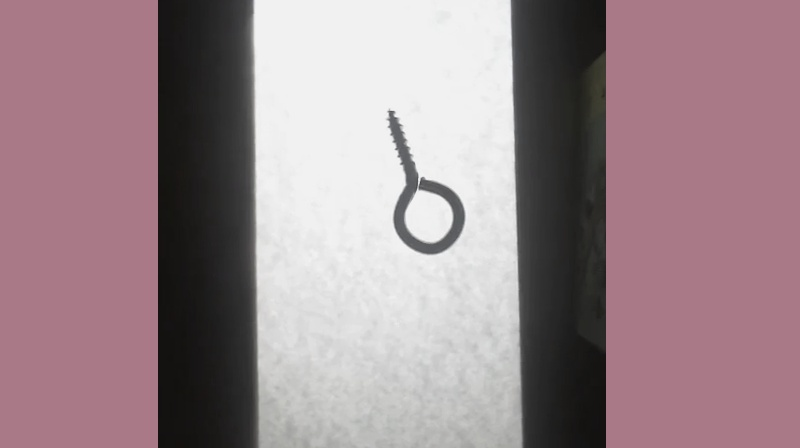O001: (383, 105, 468, 259)
